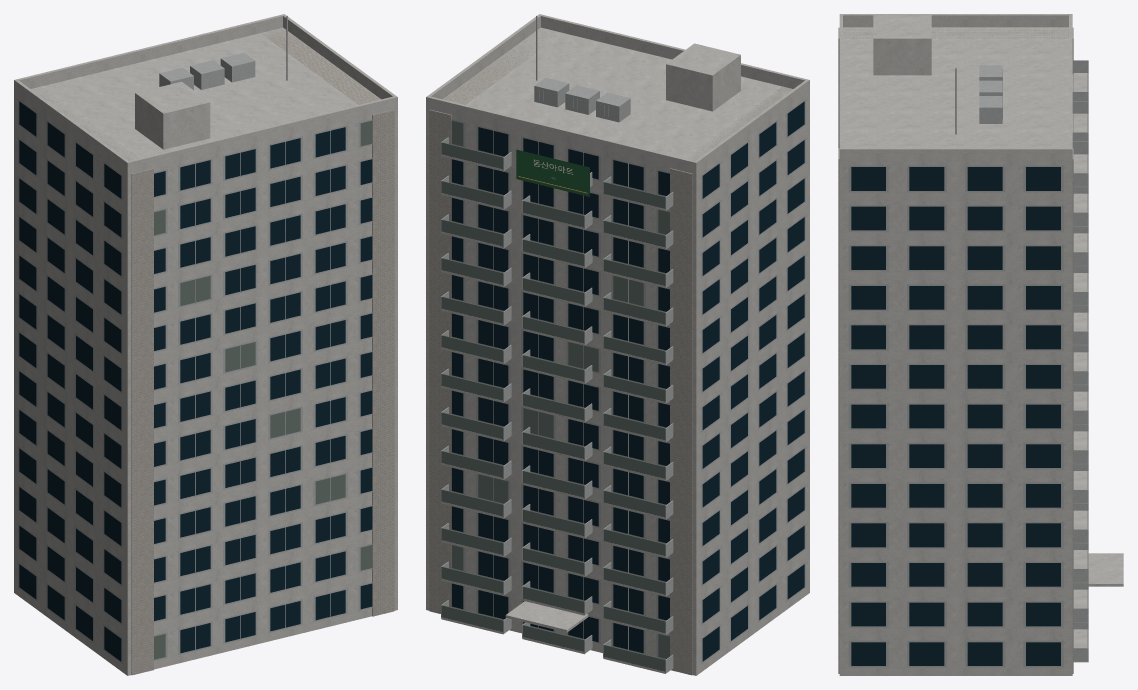
Rendered from apartment_tower.obj.
3 renders of one model, left to right at view 1: azimuth 30°, elevation 25°; view 2: azimuth 150°, elevation 25°; view 3: azimuth 270°, elevation 25°, orthographic. The views are drawn at different scales.
Parts seen in each view (by area): view 1: Apartment_White, Window_Glass, Dark_Frame, Paver_Accent, Concrete, Window_Light, Warm_Plaster, AC_White; view 2: Apartment_White, Window_Glass, Window_Light, Dark_Frame, Paver_Accent, Concrete, Warm_Plaster, AC_White, Sign_Atlas; view 3: Apartment_White, Window_Glass, Dark_Frame, Concrete, Warm_Plaster, Paver_Accent, AC_White, Window_Light.
Boxes of the visible parts, x1=… form: Apartment_White: x1=14, y1=27, x2=397, y2=675; Window_Glass: x1=19, y1=101, x2=372, y2=661; Dark_Frame: x1=18, y1=99, x2=372, y2=663; Paver_Accent: x1=34, y1=28, x2=394, y2=675; Concrete: x1=14, y1=14, x2=397, y2=174; Window_Light: x1=154, y1=120, x2=372, y2=659; Warm_Plaster: x1=135, y1=81, x2=210, y2=149; AC_White: x1=159, y1=53, x2=255, y2=90; Apartment_White: x1=426, y1=27, x2=809, y2=675; Window_Glass: x1=451, y1=101, x2=804, y2=661; Window_Light: x1=441, y1=120, x2=669, y2=671; Dark_Frame: x1=441, y1=89, x2=805, y2=672; Paver_Accent: x1=429, y1=28, x2=792, y2=675; Concrete: x1=426, y1=14, x2=809, y2=174; Warm_Plaster: x1=666, y1=43, x2=740, y2=111; AC_White: x1=534, y1=77, x2=630, y2=122; Sign_Atlas: x1=516, y1=149, x2=589, y2=196; Apartment_White: x1=839, y1=27, x2=1123, y2=675; Window_Glass: x1=851, y1=167, x2=1060, y2=665; Dark_Frame: x1=838, y1=60, x2=1088, y2=667; Concrete: x1=839, y1=14, x2=1072, y2=161; Warm_Plaster: x1=873, y1=15, x2=931, y2=75; Paver_Accent: x1=838, y1=27, x2=1073, y2=673; AC_White: x1=979, y1=65, x2=1002, y2=123; Window_Light: x1=1087, y1=61, x2=1088, y2=647.
Size of the model in its own units: 22.09 by 44 by 19.57.
